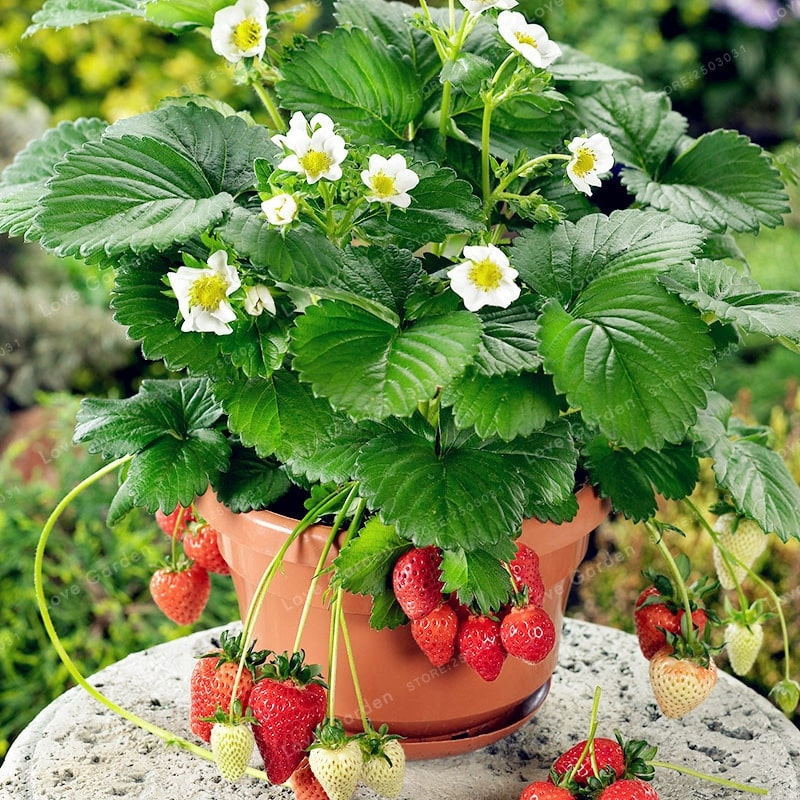ripe_strawberry: (247, 666, 330, 787), (188, 646, 258, 745), (634, 578, 709, 663), (392, 543, 448, 622), (151, 558, 214, 628), (548, 736, 634, 784), (456, 613, 511, 684), (408, 600, 460, 669), (501, 605, 558, 667), (181, 519, 235, 579), (502, 539, 546, 607), (154, 499, 196, 545), (293, 755, 332, 800), (599, 773, 659, 800), (516, 778, 580, 800)
unripe_strawberry: (647, 639, 719, 723), (711, 506, 772, 592), (307, 728, 363, 800), (360, 731, 411, 800), (209, 714, 255, 786), (722, 611, 767, 679), (774, 679, 798, 715)
